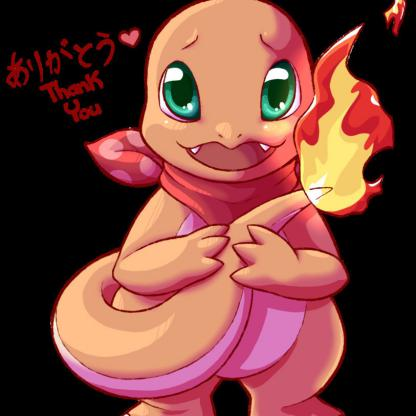Charmander: (45, 1, 416, 416)
